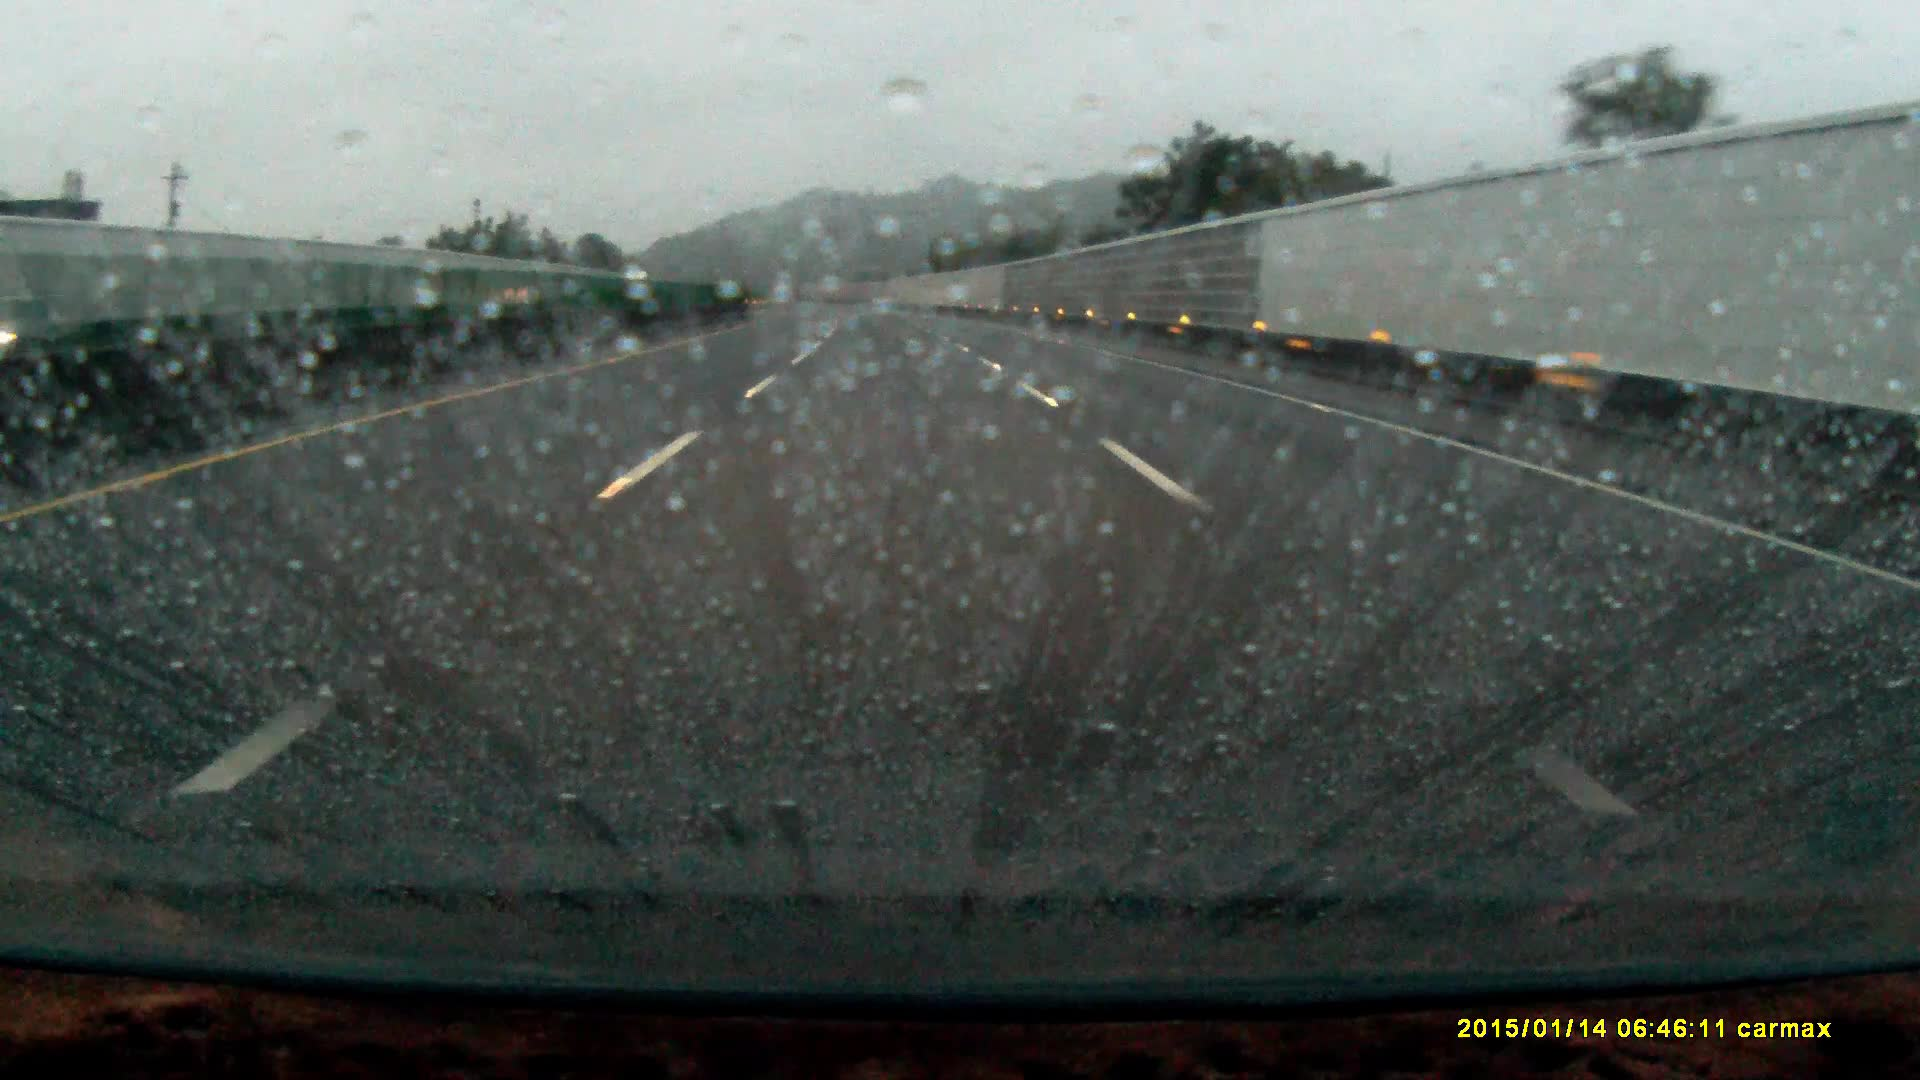vehicle: (1, 293, 62, 357)
